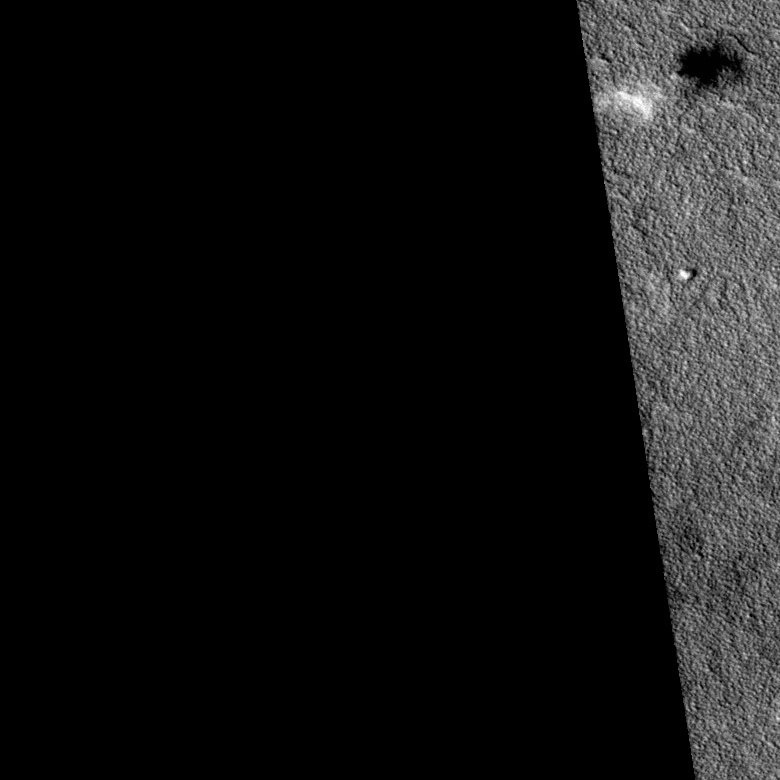dust_devil: (610, 35, 750, 125)
